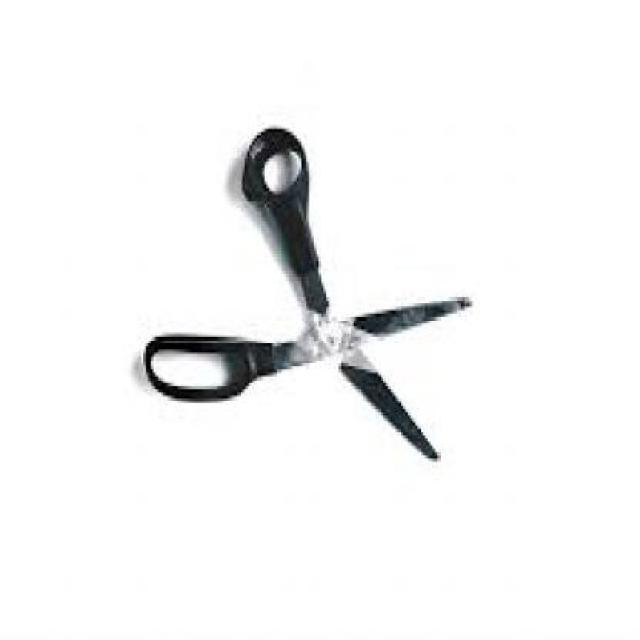scissors: (136, 126, 475, 466)
